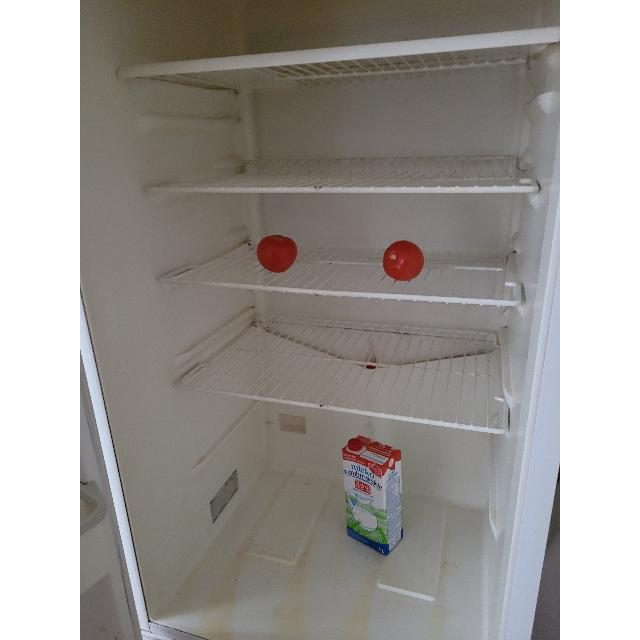milk: (338, 432, 400, 556)
tomato: (382, 239, 424, 281), (256, 234, 298, 274)
